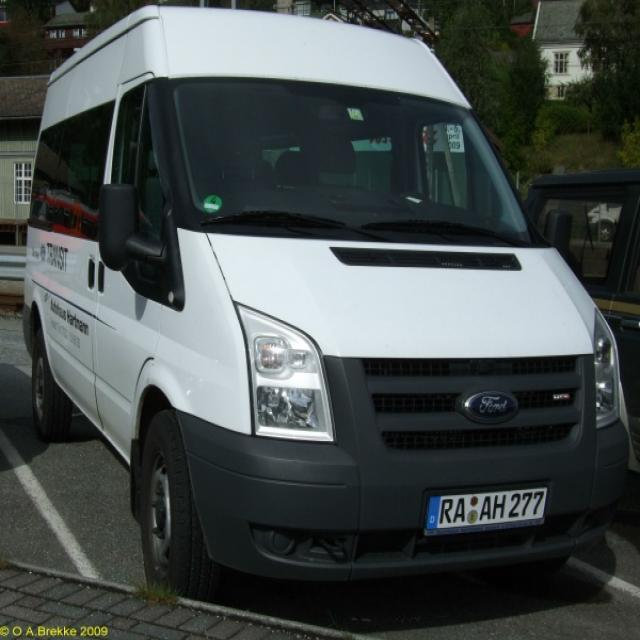license-plates: (425, 488, 549, 537)
